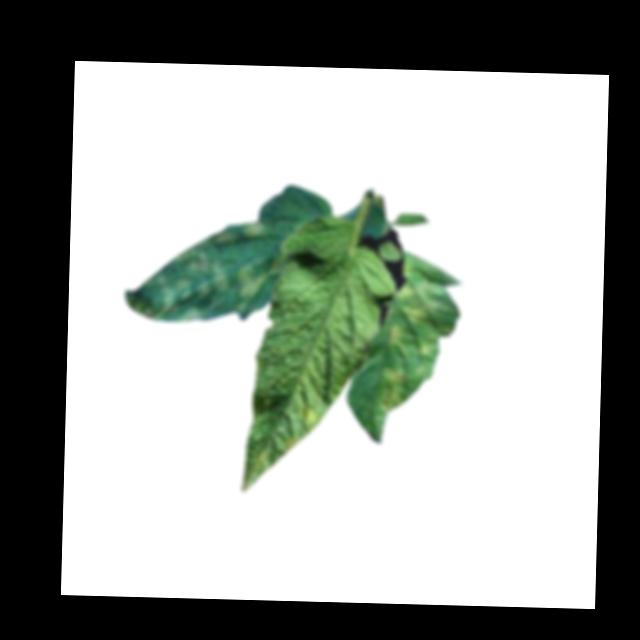Leaf_Mold: (123, 216, 290, 328), (378, 281, 441, 418), (300, 404, 323, 426)
